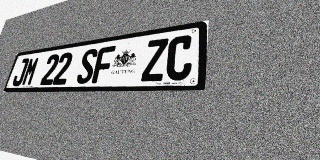2: (52, 52, 74, 85), (40, 53, 61, 85)
C: (165, 34, 194, 81)
F: (91, 46, 116, 83)
J: (11, 58, 30, 86)
M: (21, 56, 40, 86)
S: (75, 48, 99, 84)
Z: (141, 38, 169, 82)
